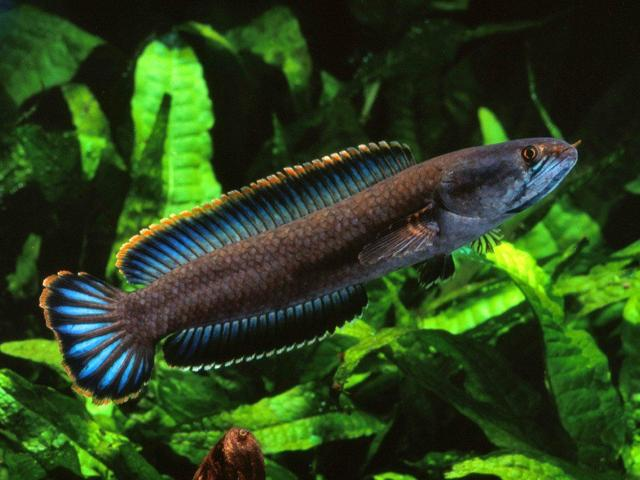Mulut: (513, 120, 589, 208)
Sirip Anal: (152, 276, 388, 382)
Sirip Dada: (353, 214, 443, 276)
Sirip Ekor: (32, 259, 164, 412)
Sirip Perut: (394, 252, 464, 318)
Sirip Punggung: (102, 132, 424, 292)
